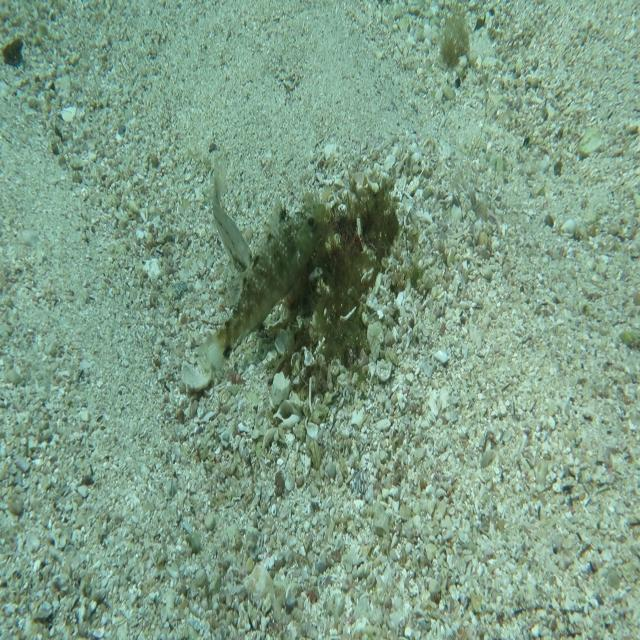core_nest: (330, 205, 389, 262)
female: (196, 193, 326, 386), (212, 150, 254, 273)
nest: (267, 165, 412, 406)
